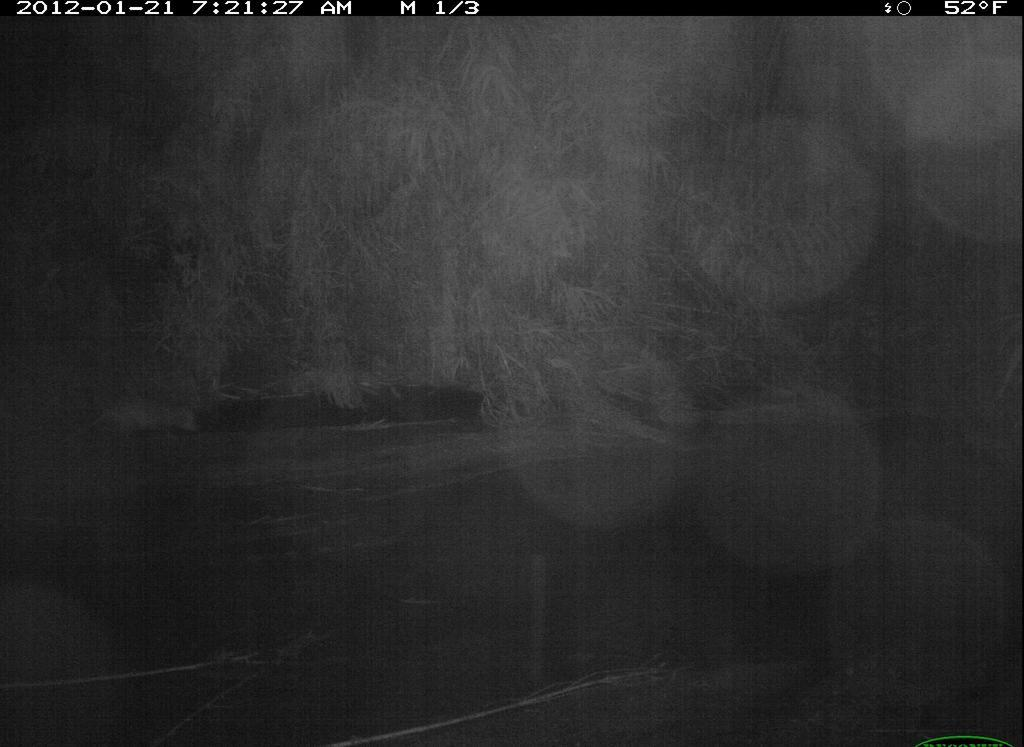opossum: (45, 392, 240, 447)
